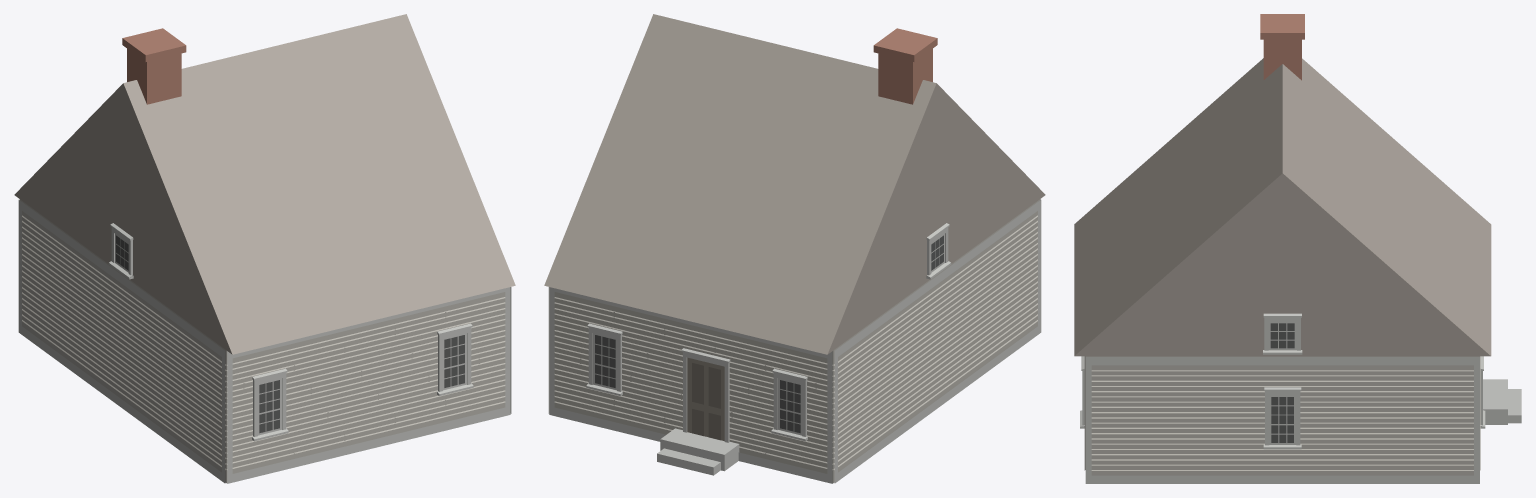
The model's file is recon_1835_north_d6_080__inferred_1835.glb.
3 renders of one model, left to right at view 1: azimuth 30°, elevation 25°; view 2: azimuth 150°, elevation 25°; view 3: azimuth 270°, elevation 25°, orthographic. The views are drawn at different scales.
Parts seen in each view (by area): view 1: recon_1835_north_d6_080__inferred_1835; view 2: recon_1835_north_d6_080__inferred_1835; view 3: recon_1835_north_d6_080__inferred_1835.
Boxes of the visible parts, <box> form: recon_1835_north_d6_080__inferred_1835: <box>14,14,515,483</box>; recon_1835_north_d6_080__inferred_1835: <box>544,14,1045,483</box>; recon_1835_north_d6_080__inferred_1835: <box>1074,14,1521,483</box>.
Bounding box in the file's own units: 7.07 × 8.28 × 9.81.
